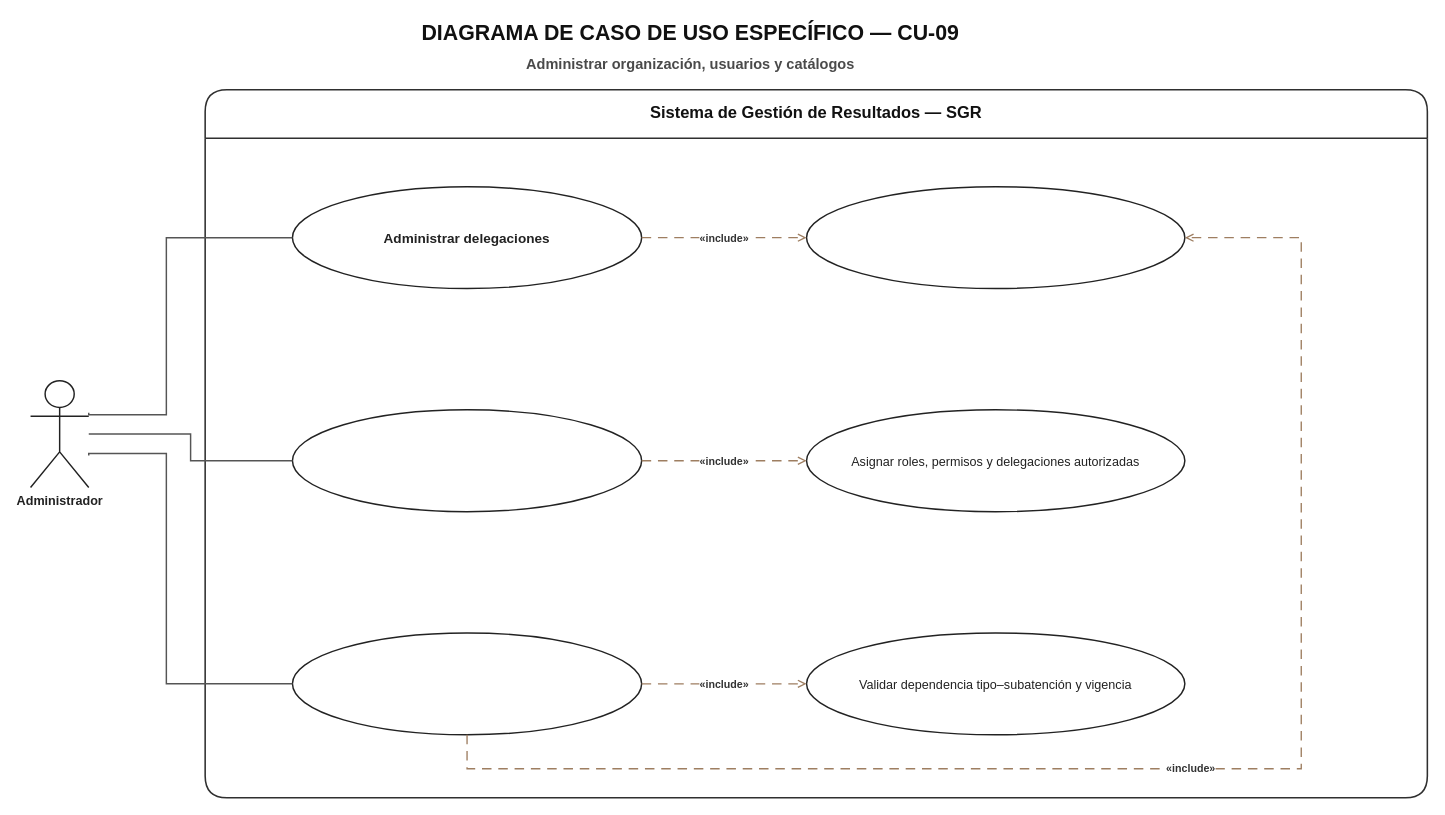
Some shapes in this 1445 by 815 pixel diagram are drawn without their labels. The centre of each missing label's shape, as x and y in pixels:
Administrar usuarios, cargos y roles: pixel 466 460
Mantener catálogos, Tipo de Atención y Sub Atención: pixel 466 683
Validar unicidad y conservar historial: pixel 995 237
